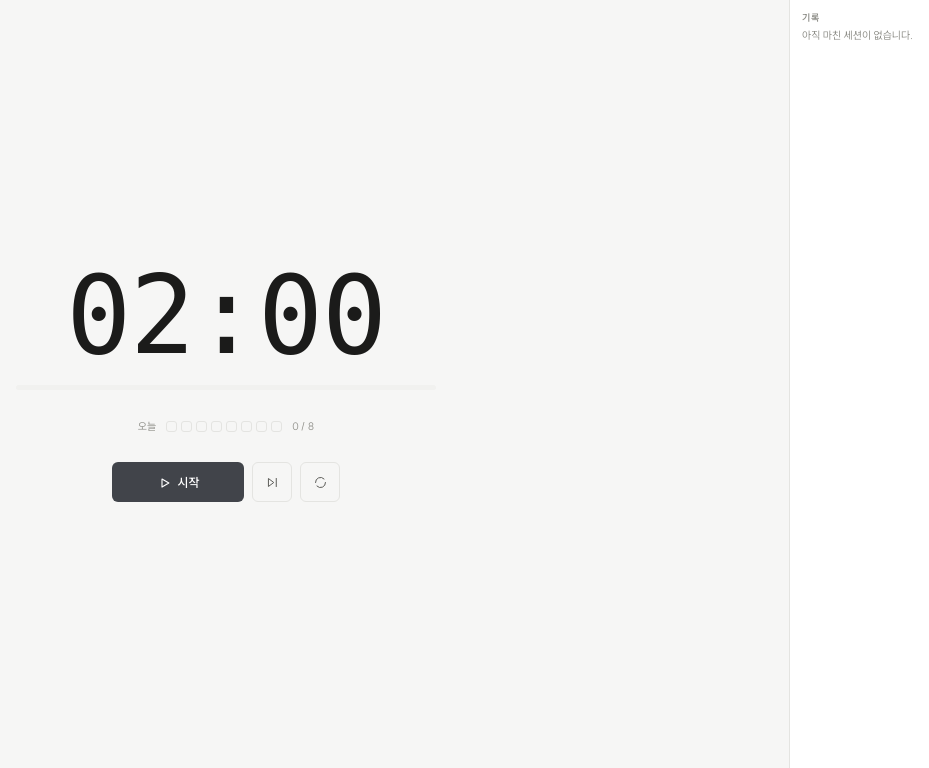
Test case: TimerPage › starts at the configured focus duration and counts down as time elapses
Expected: the button "02:00" is shown, [66,266,386,365]
Click the button "시작" at (178, 482), box [112,462,244,502]
Wait 30000 ms
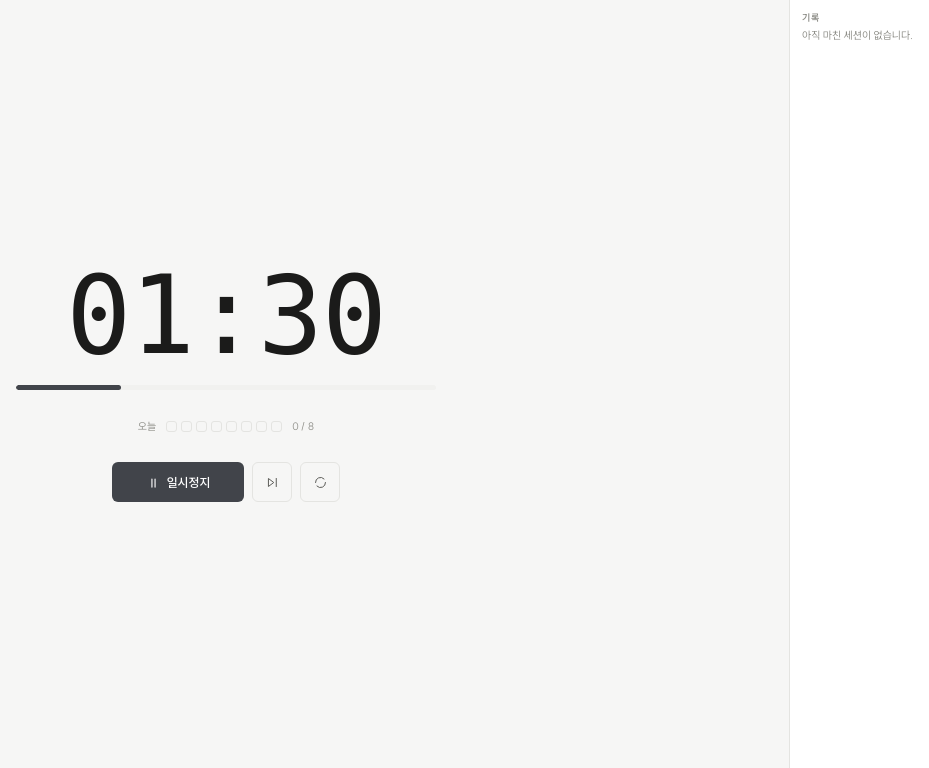
Now the text "01:30" is shown, box [66,266,386,365]
Now the button "일시정지" is shown, box [112,462,244,502]
